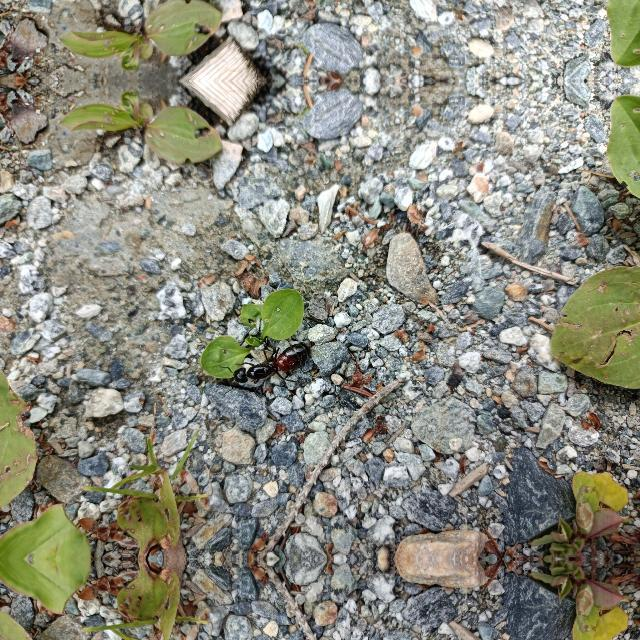Camponotus: (226, 334, 314, 388)
